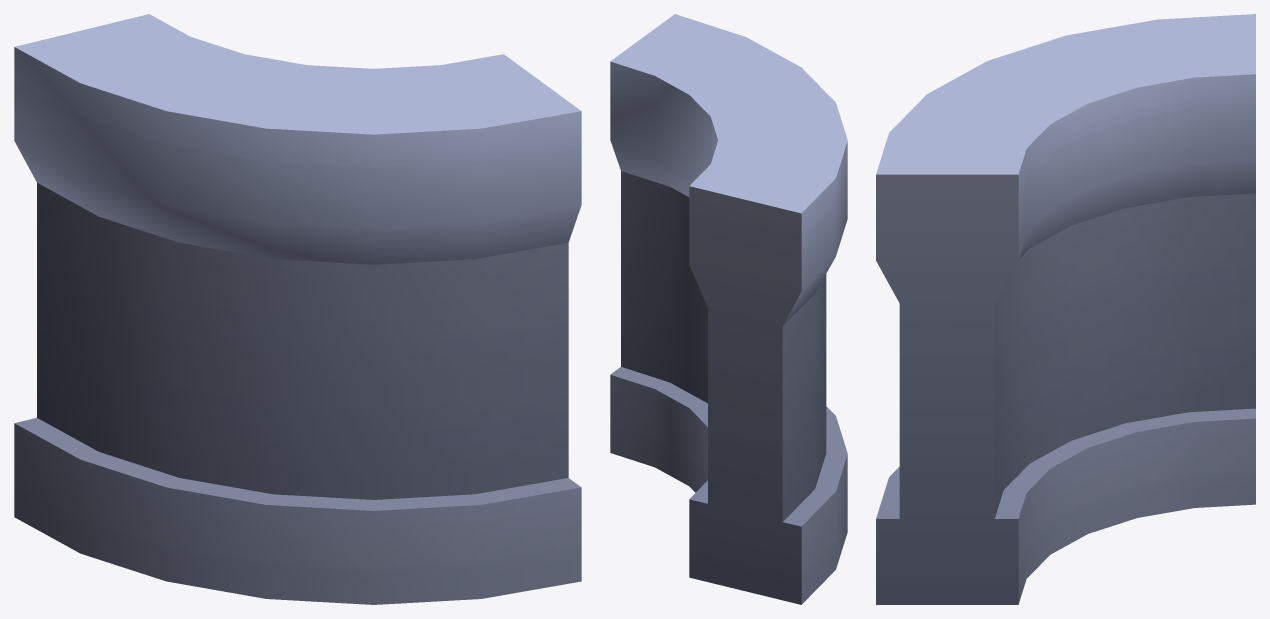
The model's file is wall-corner-round.glb.
3 views of the same model, side by side, from view 1: azimuth 30°, elevation 25°; view 2: azimuth 150°, elevation 25°; view 3: azimuth 270°, elevation 25° (orthographic). The views are drawn at different scales.
Parts seen in each view (by area): view 1: wall-corner-round; view 2: wall-corner-round; view 3: wall-corner-round.
Boxes of the visible parts, bbox=[...] form: wall-corner-round: bbox=[14, 14, 581, 604]; wall-corner-round: bbox=[610, 14, 847, 604]; wall-corner-round: bbox=[876, 14, 1255, 604].
Bounding box in the file's own units: 0.8 × 1 × 0.8.
Materials: 1 (1 with a texture image).
